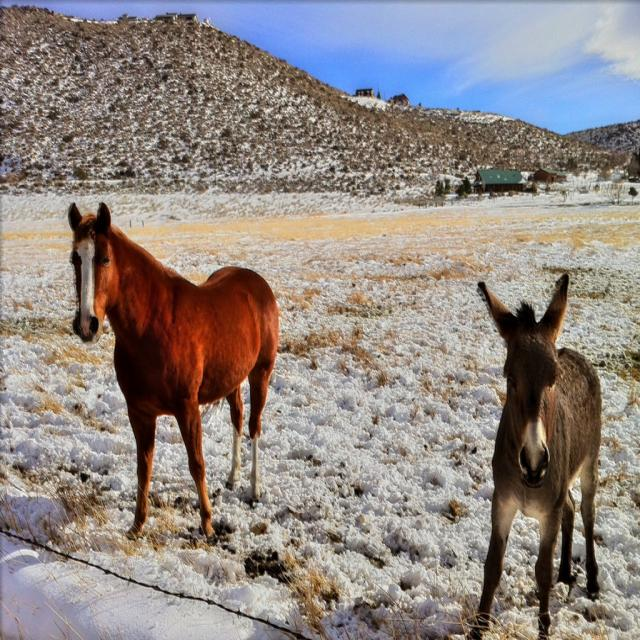Horse: (66, 196, 277, 540)
